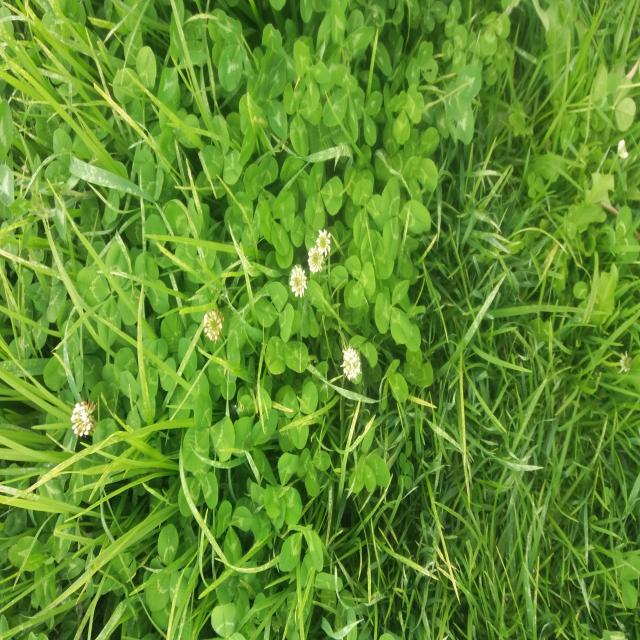Four Leaf Clover: (348, 420, 391, 493)
